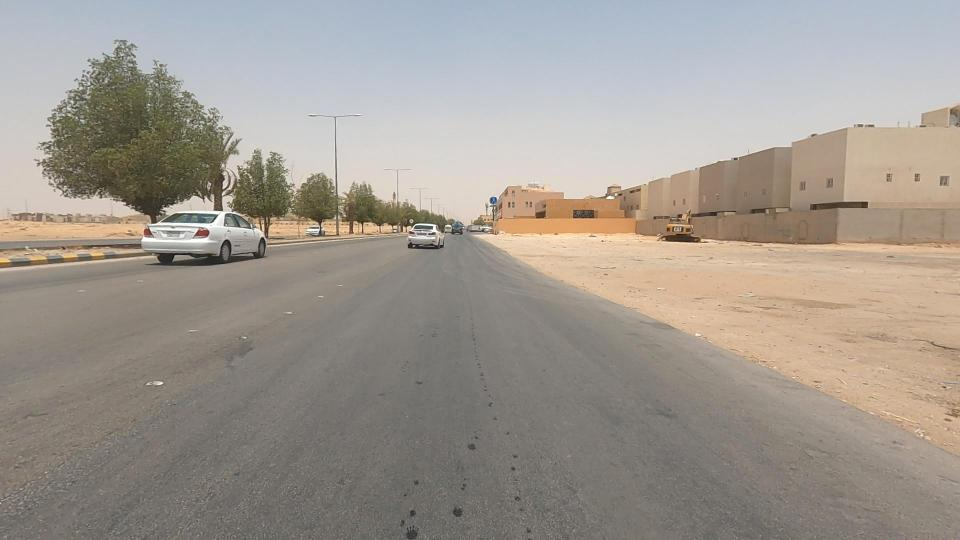GARBAGE: (564, 219, 625, 253), (582, 251, 632, 288)
